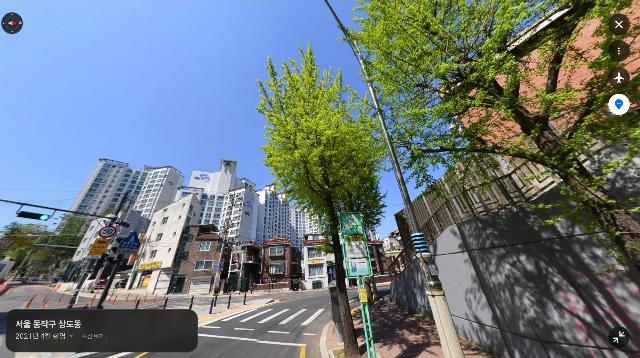other: (338, 0, 640, 283), (255, 40, 387, 358), (0, 222, 56, 282)
